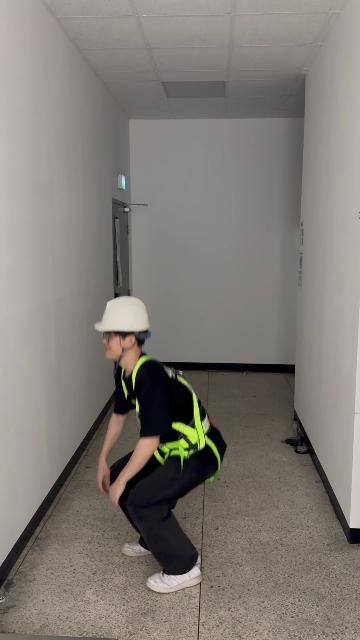helmet_worn: (93, 295, 153, 335)
shoe_not_worn: (145, 559, 202, 593), (121, 540, 153, 557)
vest_worn: (126, 354, 222, 476)
